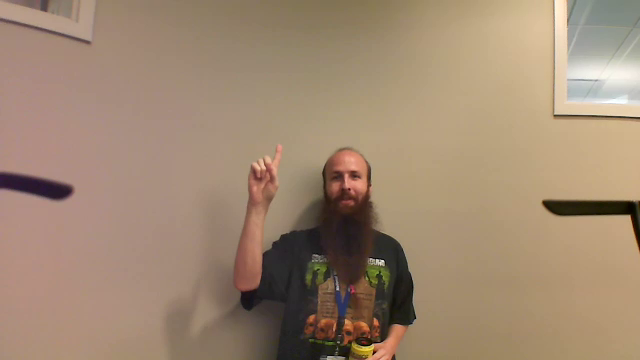up: (240, 140, 285, 211)
